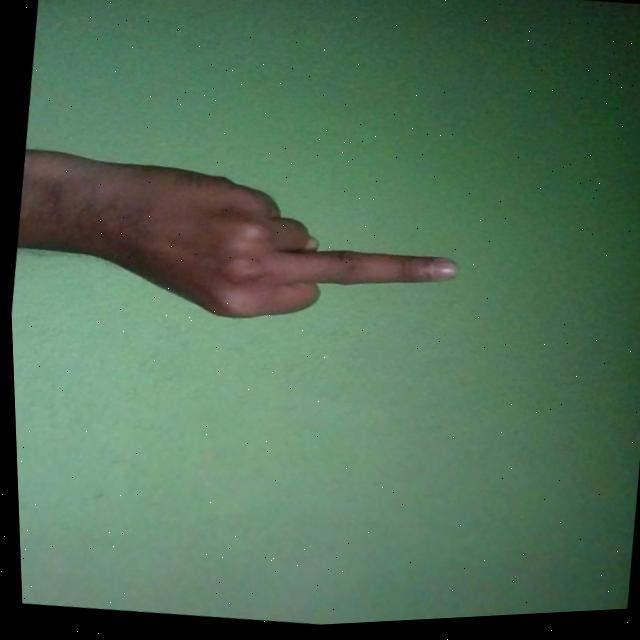Middle Finger: (16, 134, 466, 357)
